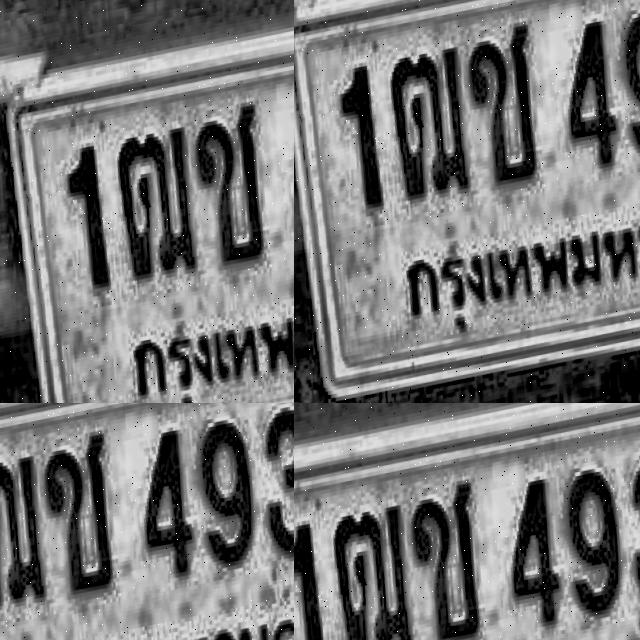license-plate: (0, 0, 294, 403), (294, 403, 640, 640), (294, 0, 631, 205)
